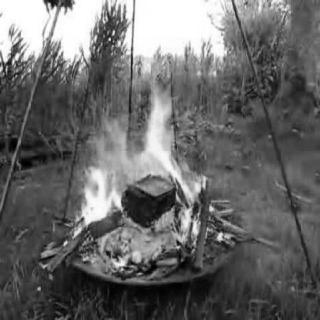Fire: (49, 42, 245, 282)
